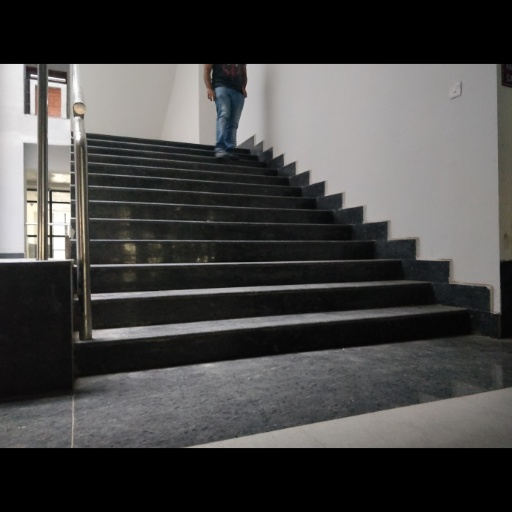Stairs: (75, 136, 476, 375)
